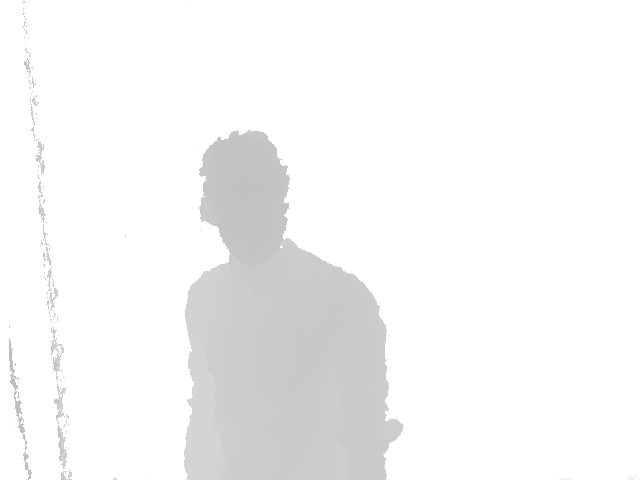head: (199, 131, 289, 264)
person: (182, 131, 405, 480)
